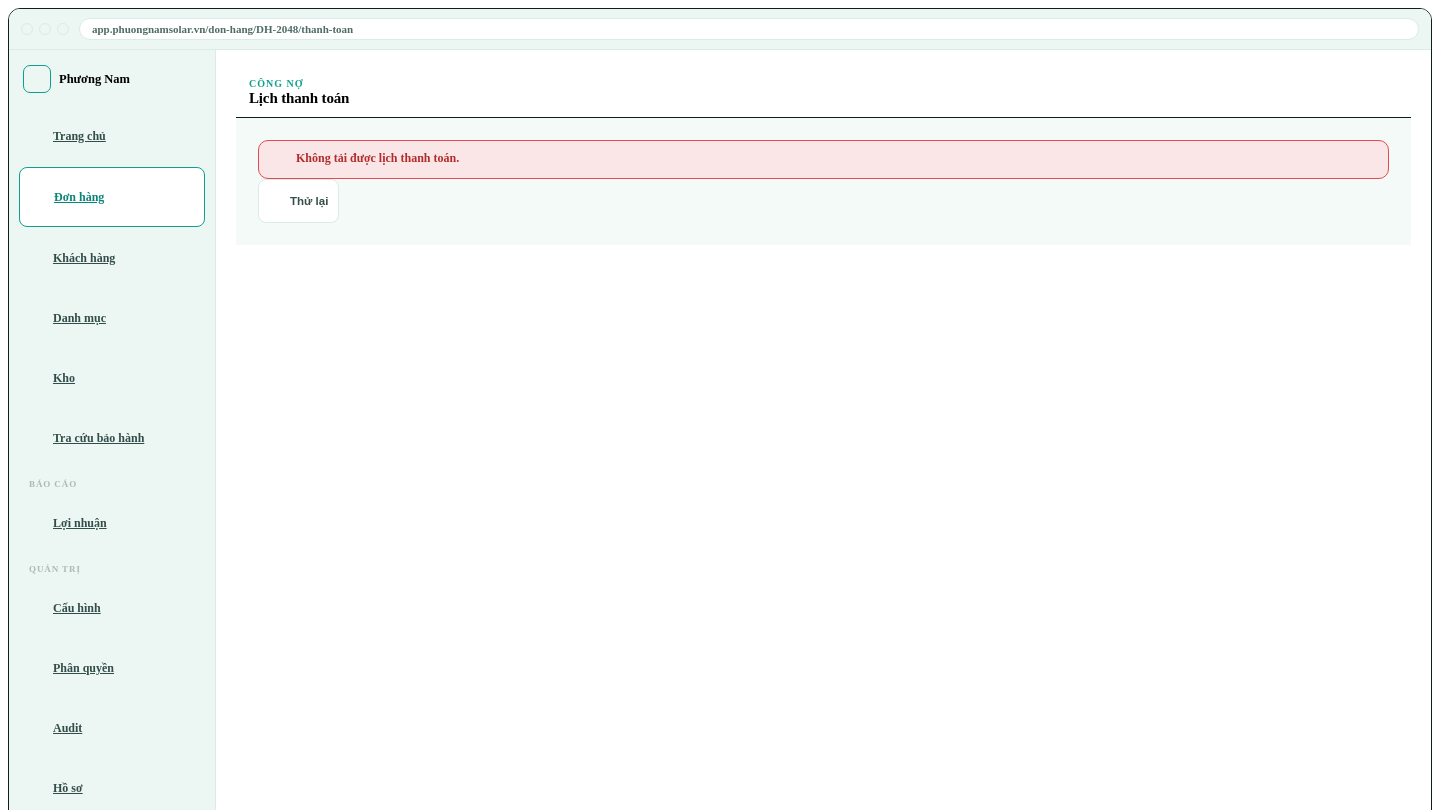
Scenario: PaymentScheduleScreen — view › load failure ⇒ error state; "Thử lại" reloads the schedule
Check: the text "Không tải được lịch thanh toán." is shown, box [258, 140, 1389, 179]
Click the button "Thử lại": {"x": 299, "y": 201} [258, 179, 339, 223]
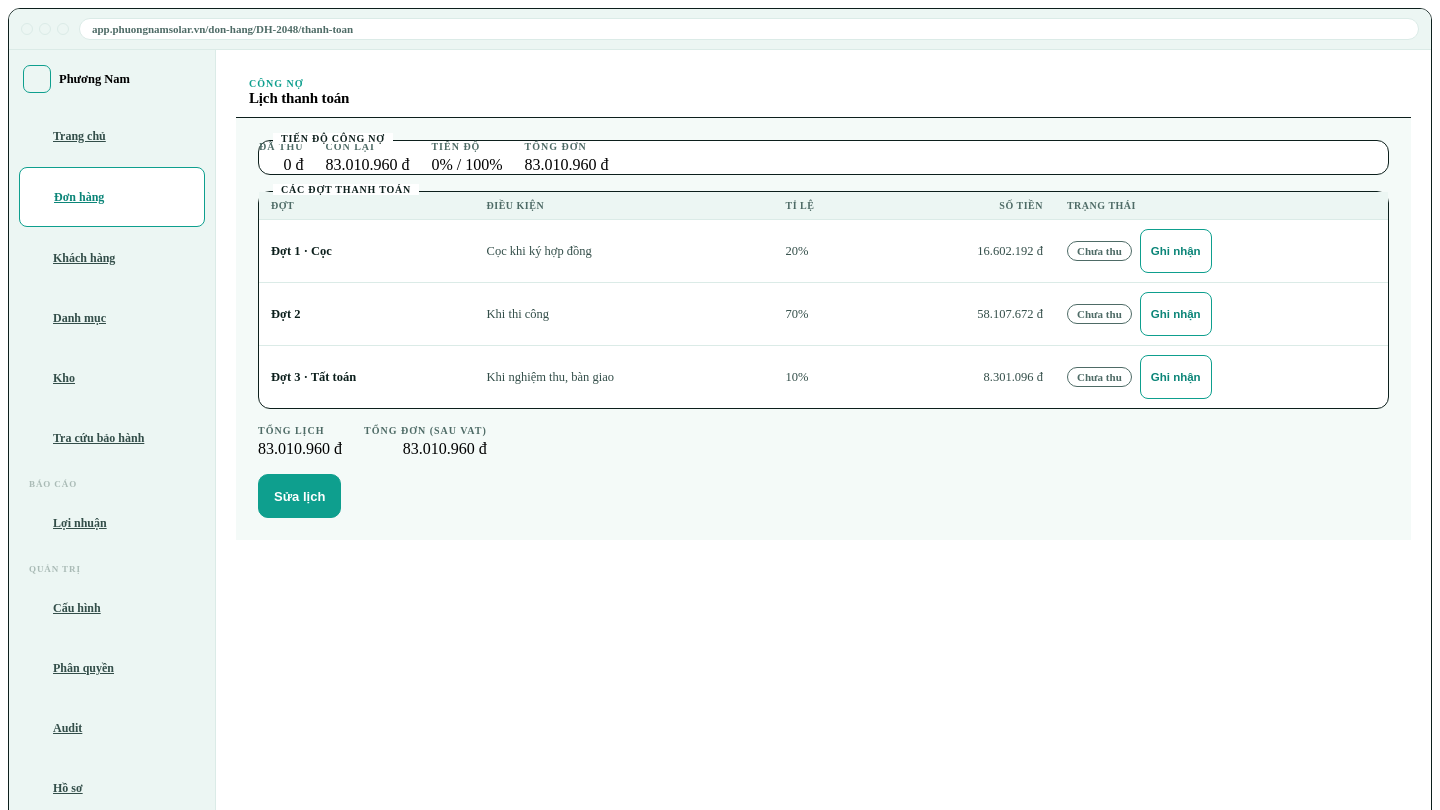
Check: the text "Đợt 1 · Cọc" is shown, box [259, 220, 475, 282]
